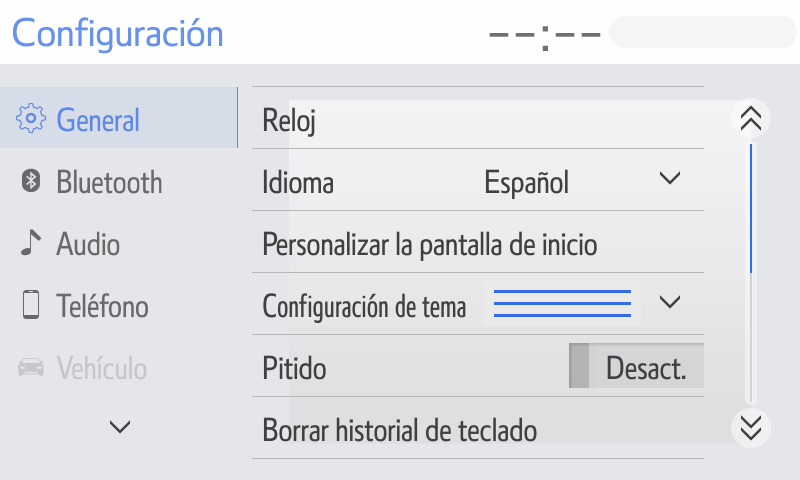touchPart: (244, 80, 709, 156), (248, 330, 703, 405), (246, 144, 706, 217), (246, 267, 705, 338), (244, 395, 711, 462), (243, 210, 703, 276), (12, 284, 155, 330), (18, 159, 172, 198), (20, 223, 126, 259), (730, 404, 779, 459), (732, 94, 775, 140), (105, 408, 143, 444)
untouchPart: (1, 87, 241, 151), (468, 8, 793, 54), (12, 12, 229, 54), (12, 349, 150, 389)
